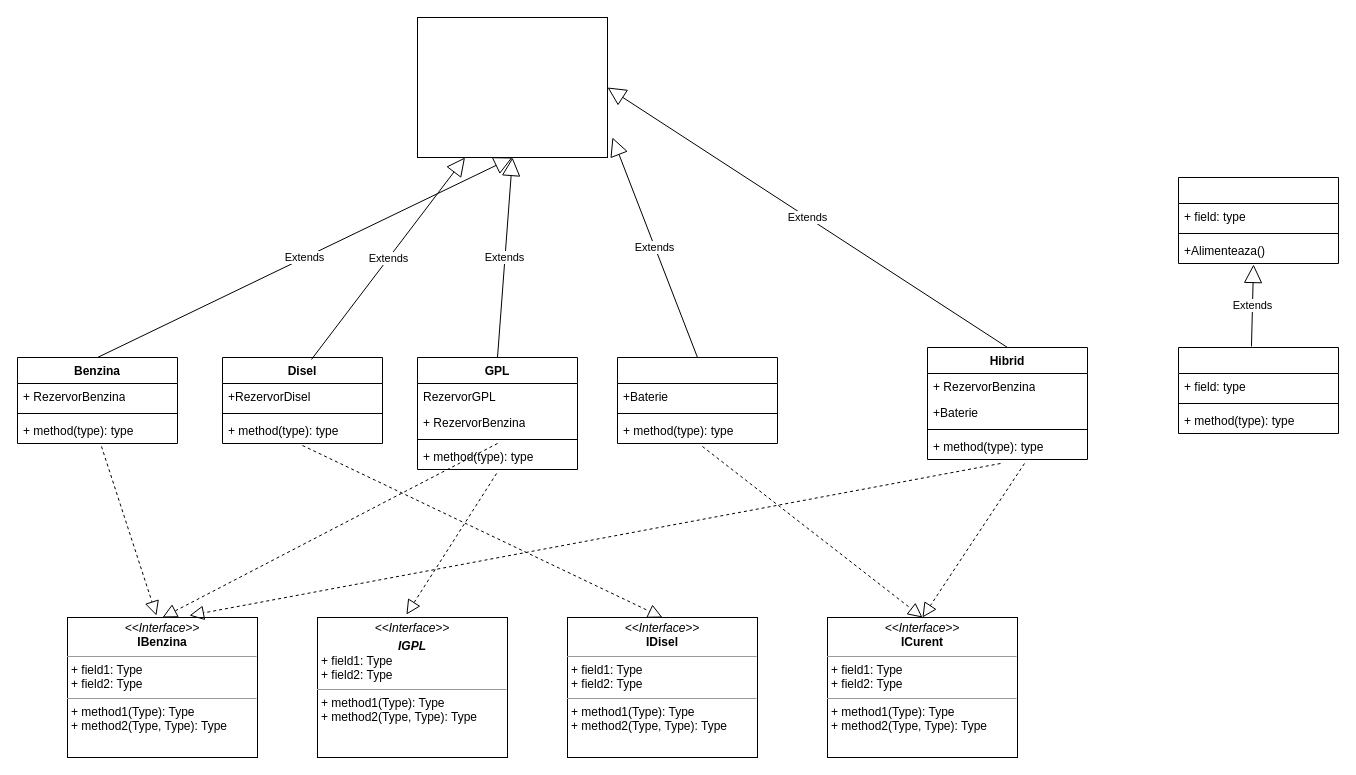
This 1356x775 diagram has some shape labels left out. Here are the shapes that lost their labels. From the top down, the box of each, then its label:
(416, 16, 608, 158): IAutoturism + Model: string + Id:Guid + ToString();
(1178, 176, 1338, 264): SatatieClasaica
(616, 356, 778, 444): Electric
(1178, 346, 1338, 434): StatieHibrida
